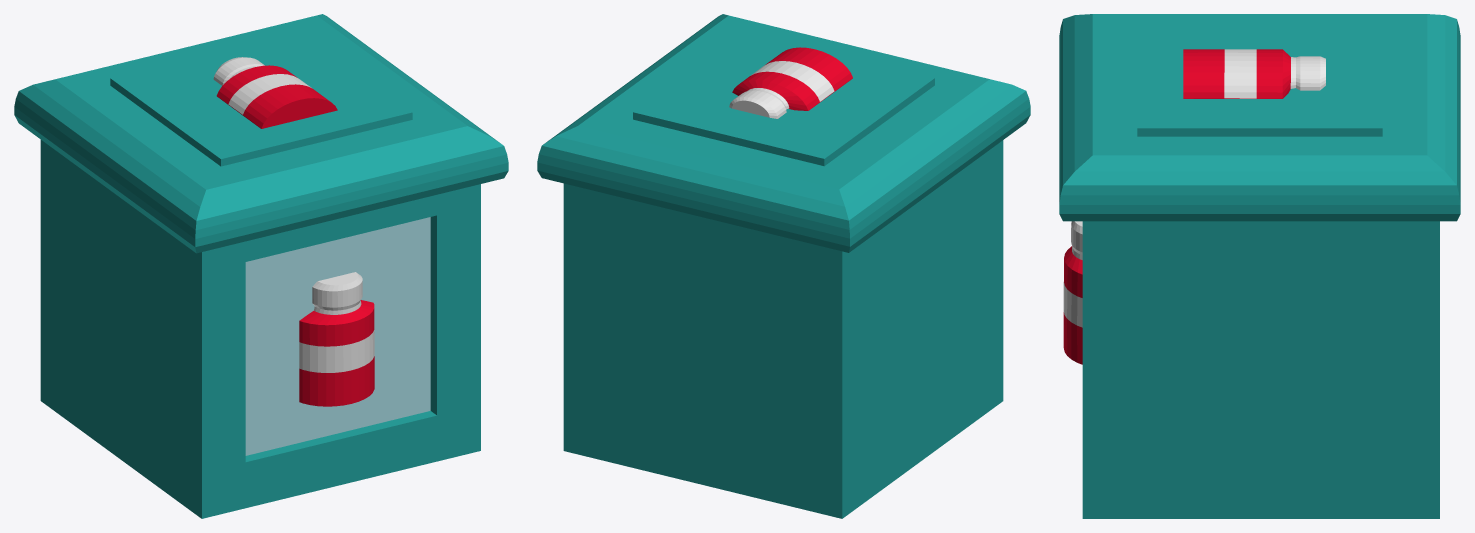
The model's file is SyrupBox.fbx.
3 renders of one model, left to right at view 1: azimuth 30°, elevation 25°; view 2: azimuth 150°, elevation 25°; view 3: azimuth 270°, elevation 25°, orthographic. The views are drawn at different scales.
Parts seen in each view (by area): view 1: surupluk, kapak; view 2: surupluk, kapak; view 3: surupluk, kapak.
Boxes of the visible parts, left/top/right/bottom form: surupluk: left=40, top=140, right=480, bottom=518; kapak: left=14, top=14, right=508, bottom=253; surupluk: left=563, top=140, right=1003, bottom=518; kapak: left=537, top=14, right=1030, bottom=252; surupluk: left=1063, top=221, right=1439, bottom=518; kapak: left=1059, top=14, right=1460, bottom=221.
Bounding box in the file's own units: 346 × 370 × 346.
